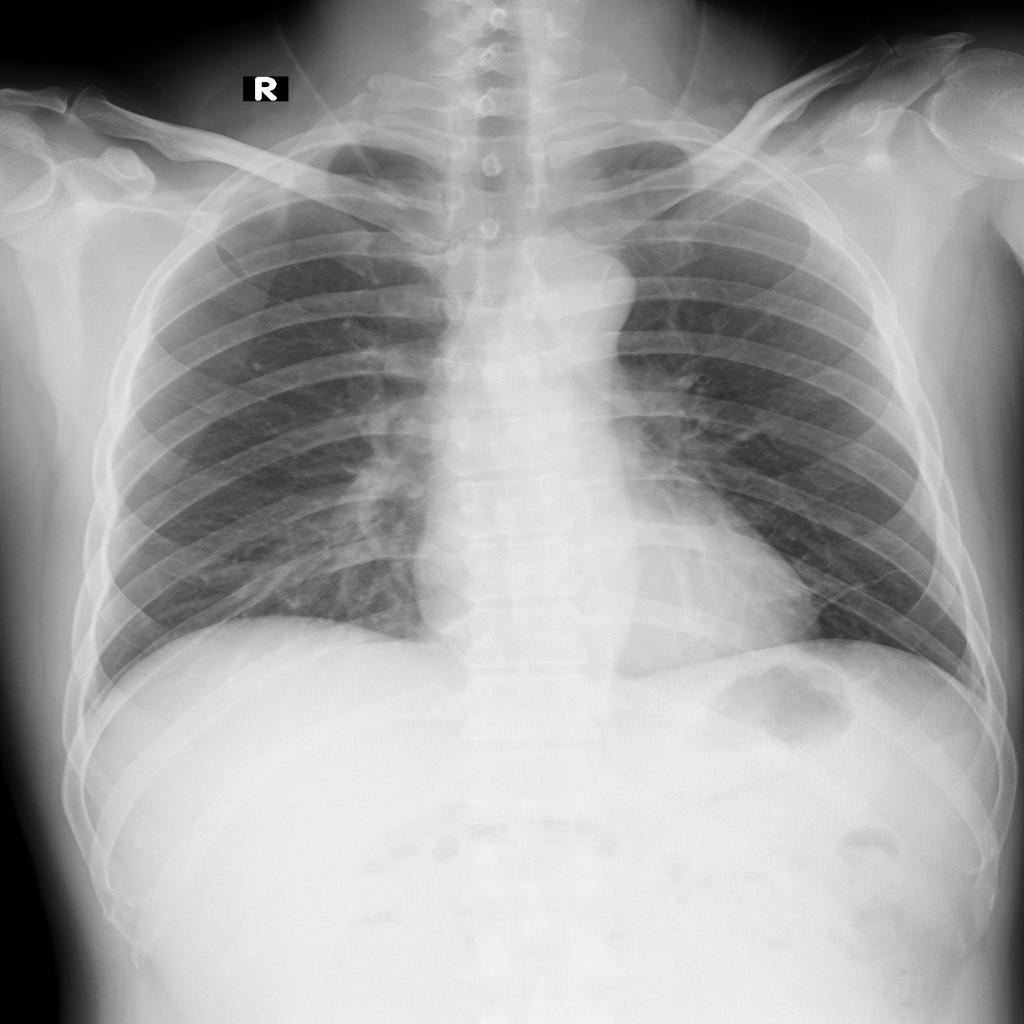Nodule: (832, 520, 856, 538)
